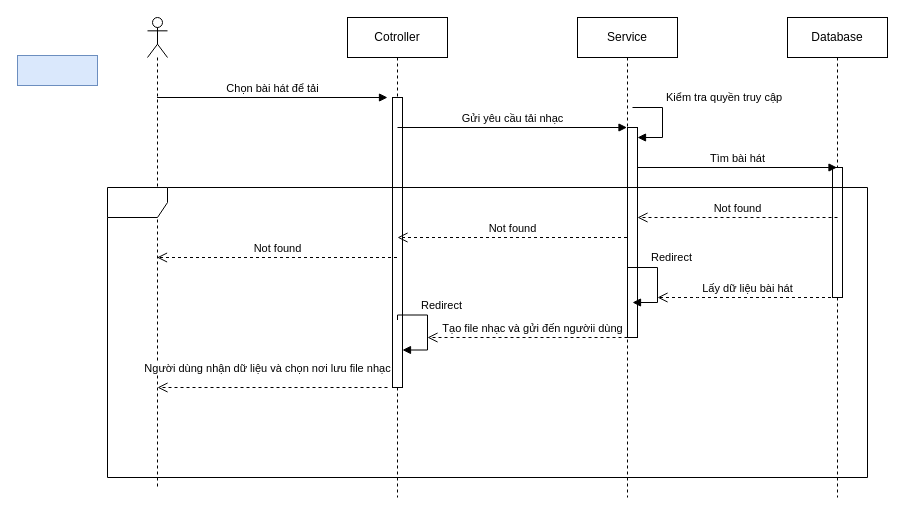
The diagram is 905 pixels wide and 515 high, and some of its shapes have lost their labels. The box of each missing label's shape, as (x1, y1, x2, y2) in pixels:
Alternative: (106, 186, 868, 478)
Down nhạc: (16, 54, 98, 86)
